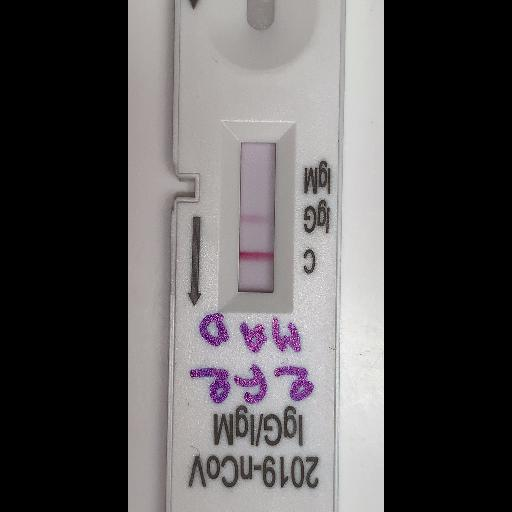Pos: (173, 0, 339, 509)
